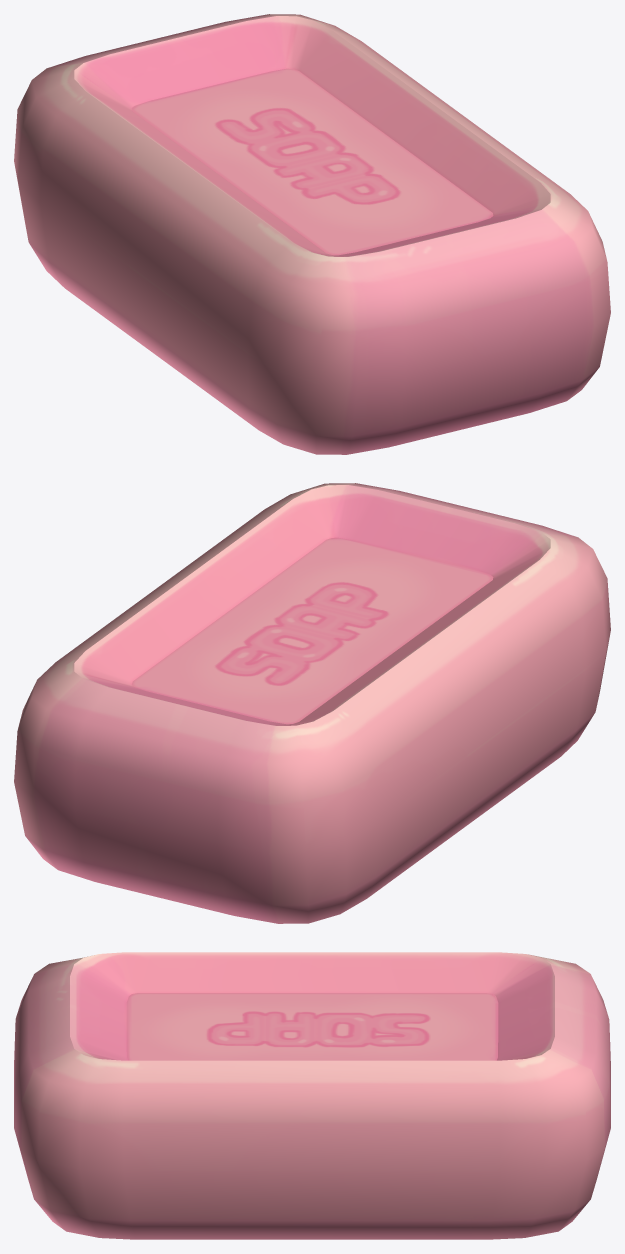
File: bathroom_soap_bar.fbx
3 renders of one model, top to bottom at view 1: azimuth 30°, elevation 25°; view 2: azimuth 150°, elevation 25°; view 3: azimuth 270°, elevation 25°, orthographic. The views are drawn at different scales.
Parts seen in each view (by area): view 1: bathroom_soap; view 2: bathroom_soap; view 3: bathroom_soap.
Boxes of the visible parts, <box> form: bathroom_soap: <box>14,14,610,454</box>; bathroom_soap: <box>14,483,610,923</box>; bathroom_soap: <box>14,952,610,1239</box>.
Bounding box in the file's own units: 9.6 × 5.08 × 16.32.
